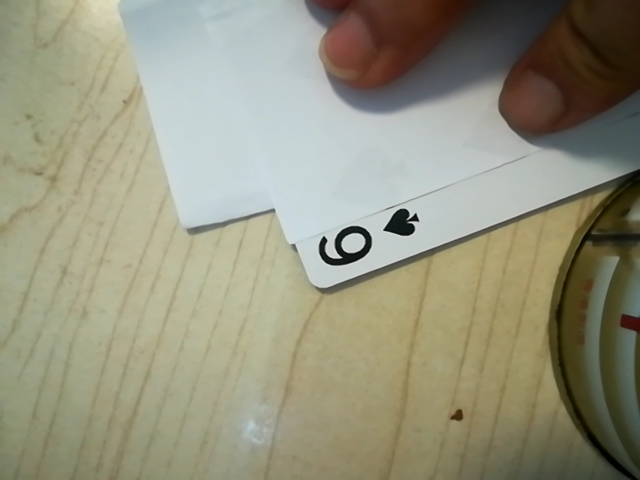ht 6: (307, 193, 434, 280)
